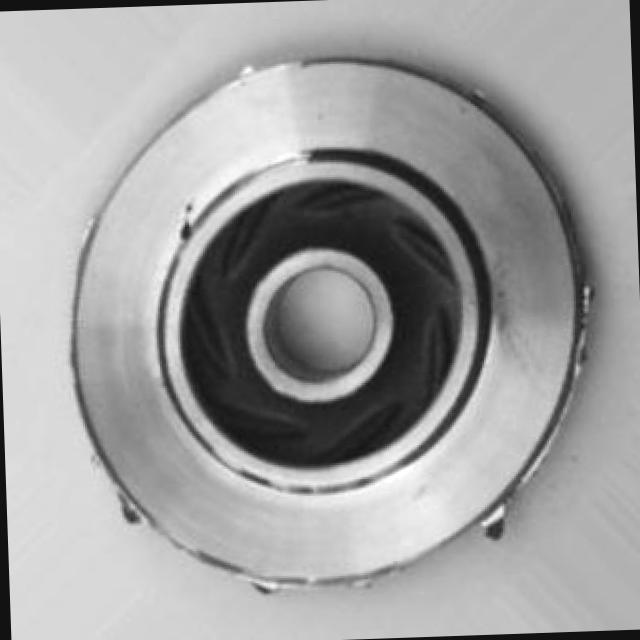Defect: (164, 203, 206, 250)
